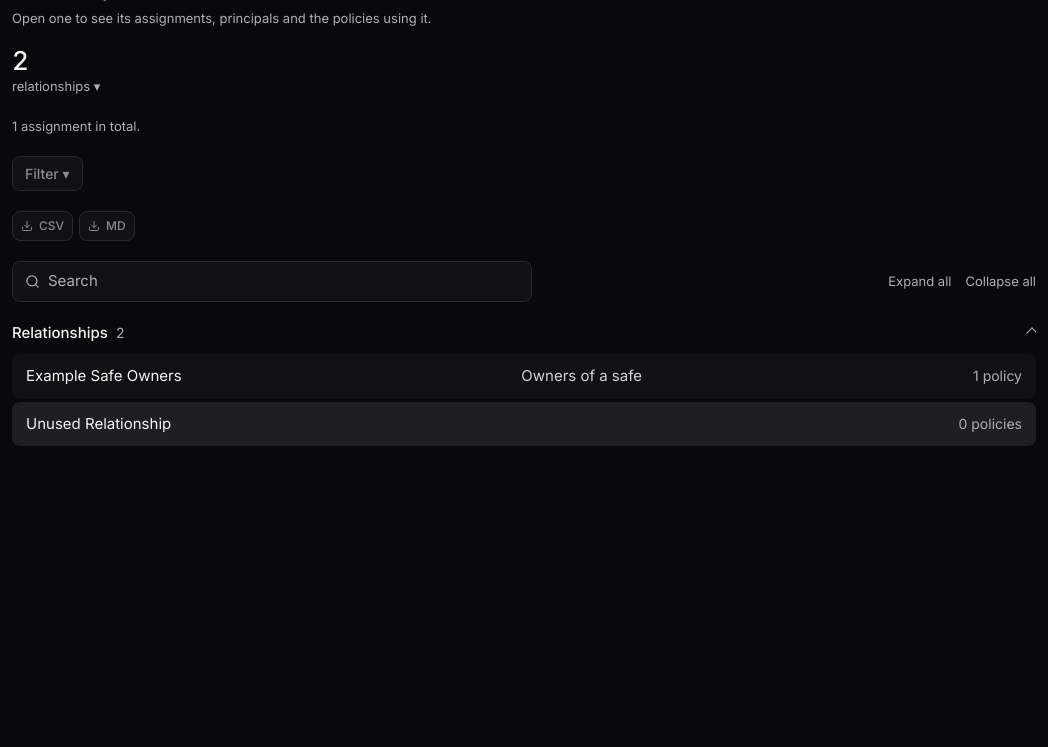
Test: RelationshipsTab › lists relationships; opening one shows its assignments, principals, resources and policies
Click the button "Example Safe Owners Owners of a safe 1 policy": {"x": 524, "y": 376} [12,354,1036,398]
(page scrolled)
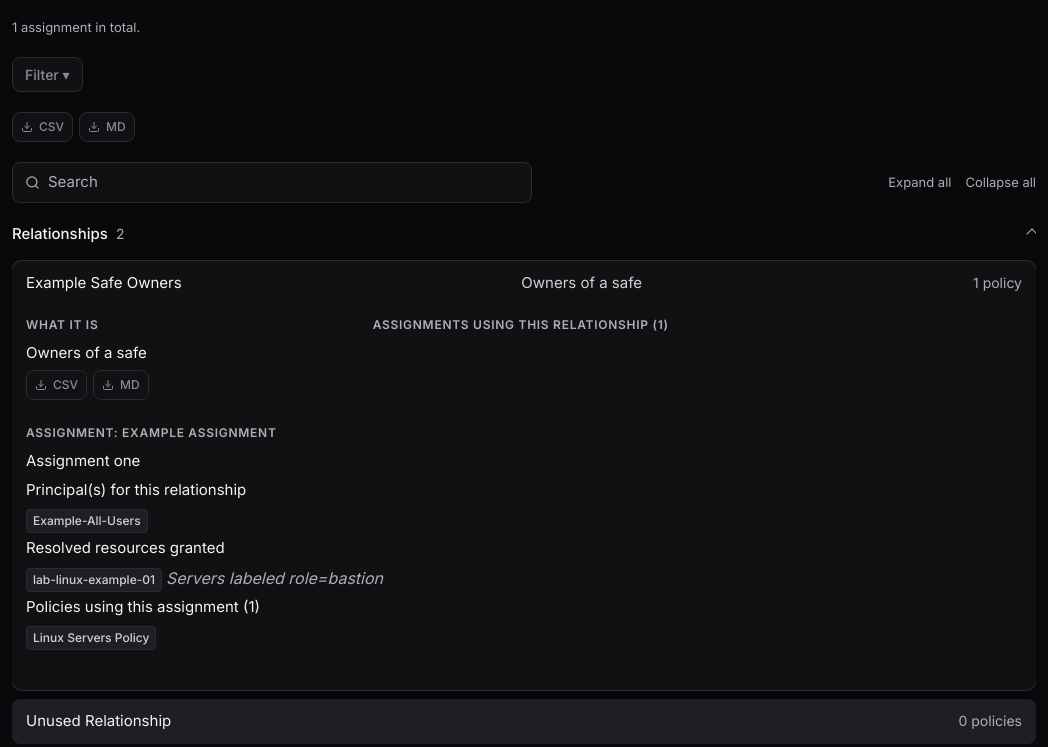
Check: the heading "Assignment: Example Assignment" is shown, box [26,425,277,440]
Check: the text "Example-All-Users" is shown, box [26,509,148,533]
Check: the text "lab-linux-example-01" is shown, box [26,568,162,592]
